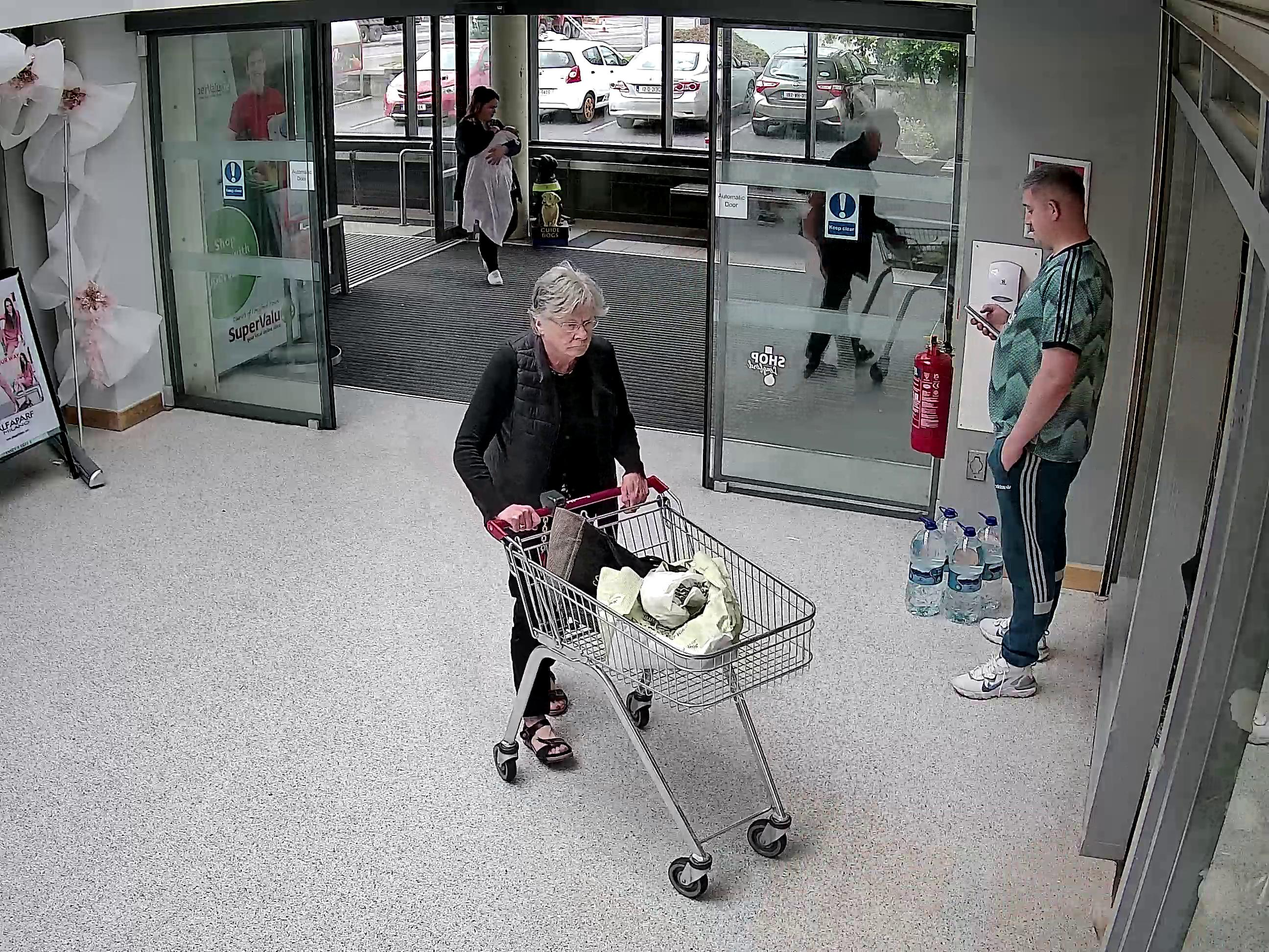filled-trolly: (487, 474, 817, 896)
person: (451, 266, 650, 758)
person-with-filled-basket-trolly: (449, 262, 817, 896)
